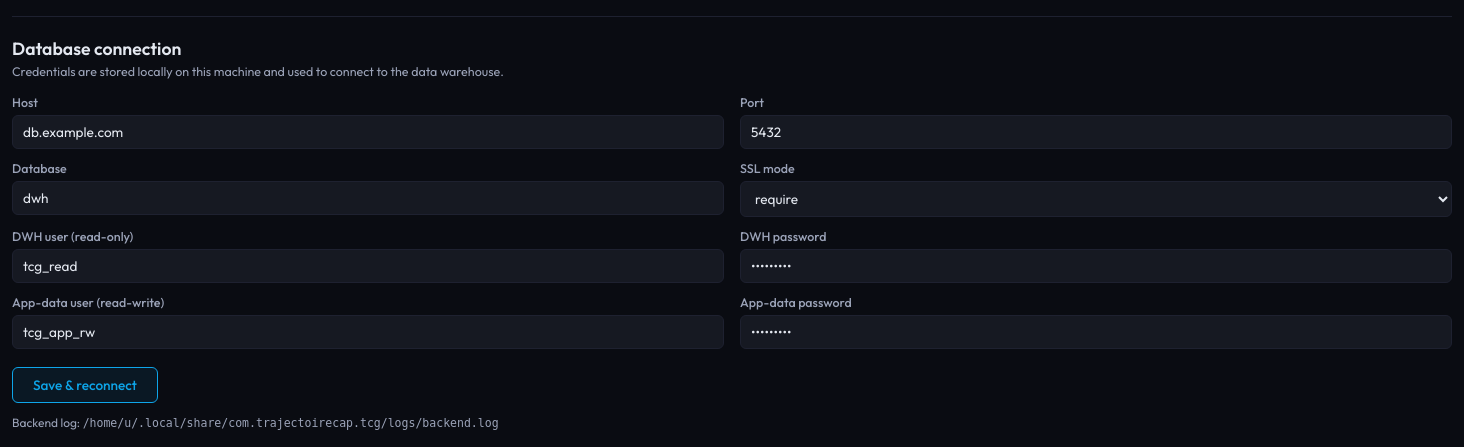
Test: <DatabaseSettings> › does NOT render the spawn hint on a successful save
Check: the field showing "db.example.com" is shown, box [12,115,724,149]
Click the button with test id "db-save-btn" at (85, 385), box [12,367,158,403]
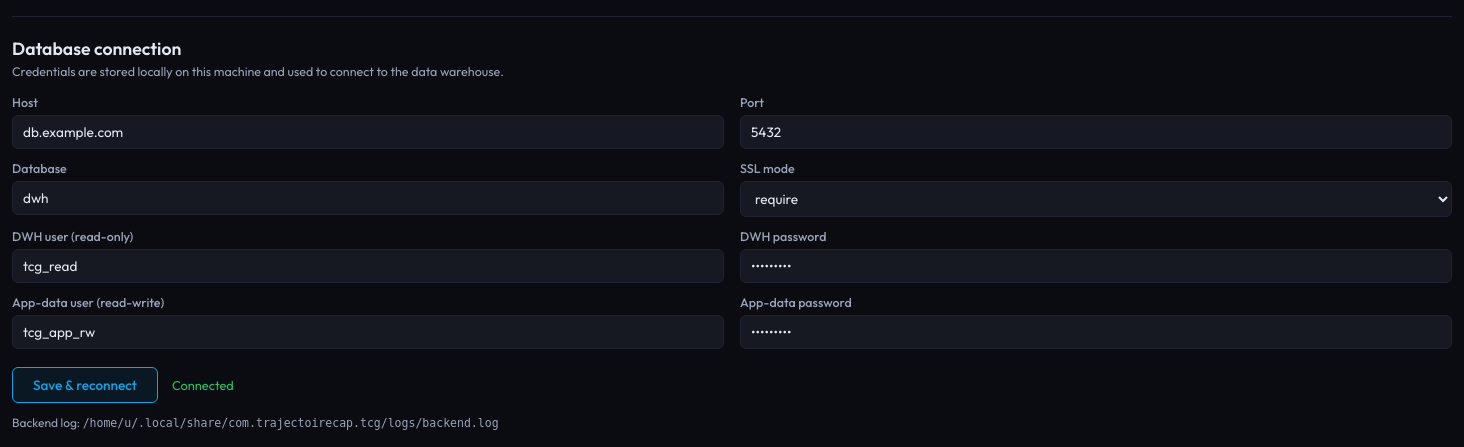
Check: the message with test id "db-status" reads "Connected", box [172,377,234,393]
